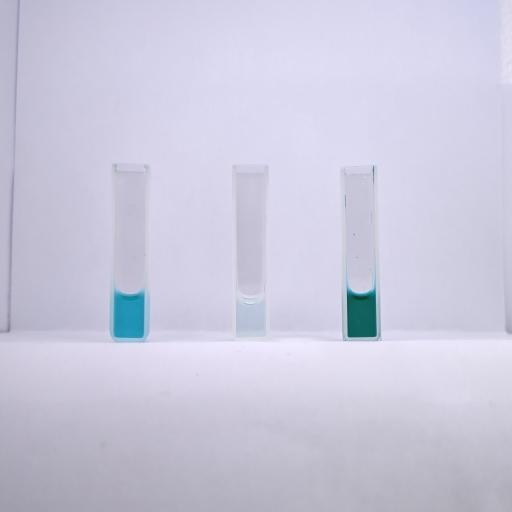cuvette: (108, 160, 152, 345), (339, 164, 384, 344), (231, 162, 271, 342)
liquid: (114, 289, 144, 338), (348, 290, 376, 338), (236, 295, 265, 338)
